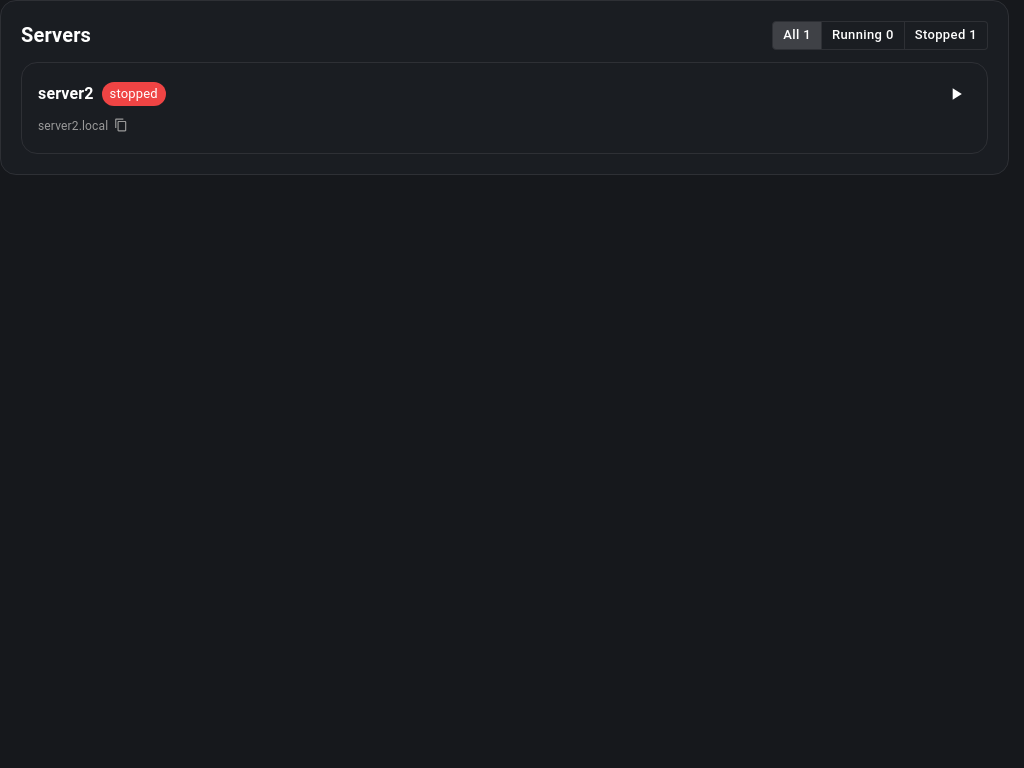
it: ServerOverview › quick actions › shows an alert when a mutation fails
This screenshot has width=1024, height=768.
Click the button named "Start server2": (956, 94) [941,79,971,109]
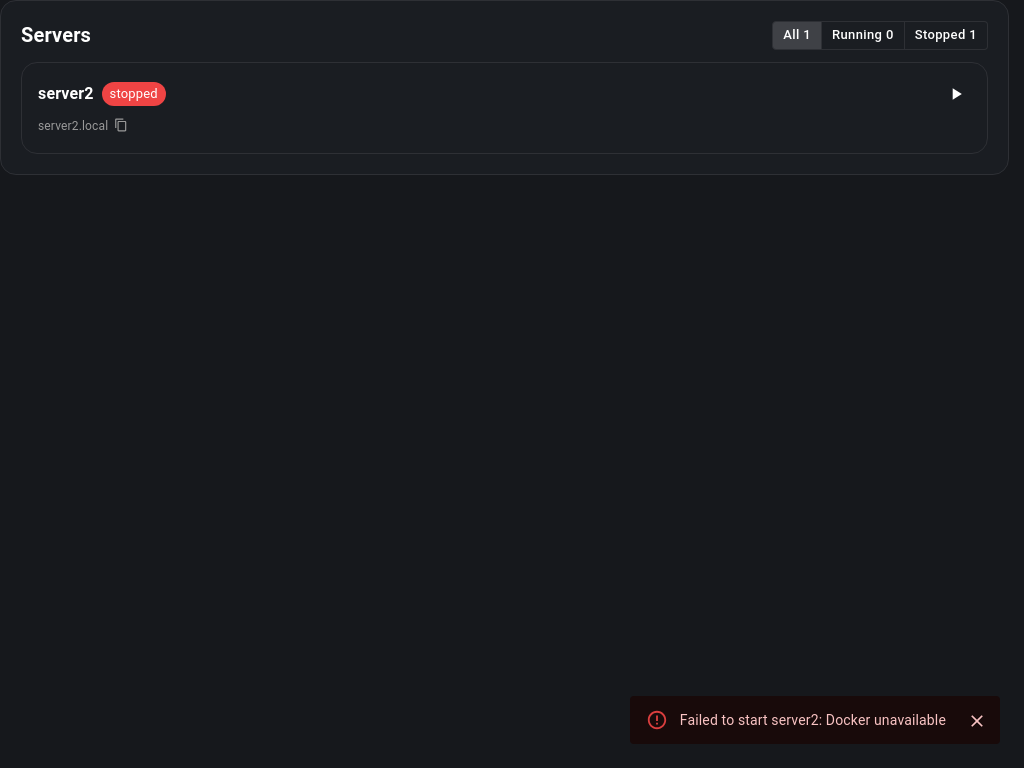
Expected: the message reads "Failed to start server2: Docker unavailable", [680,712,946,728]
